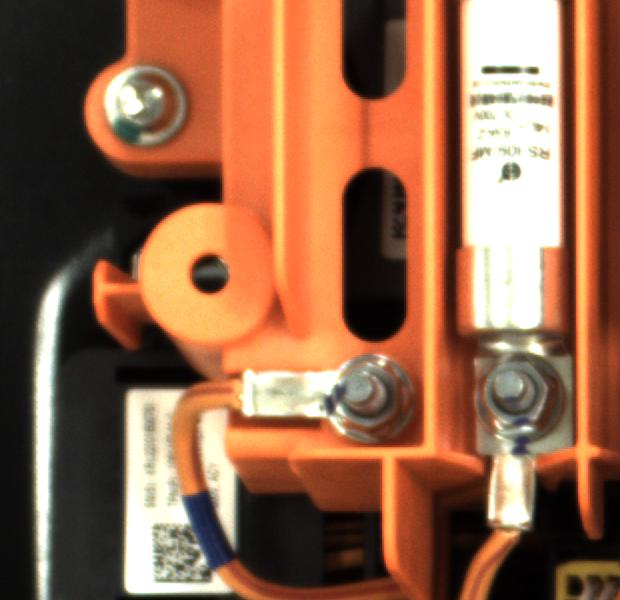screw_m: (84, 62, 217, 163)
screw_s: (311, 347, 421, 447), (470, 347, 575, 446)
